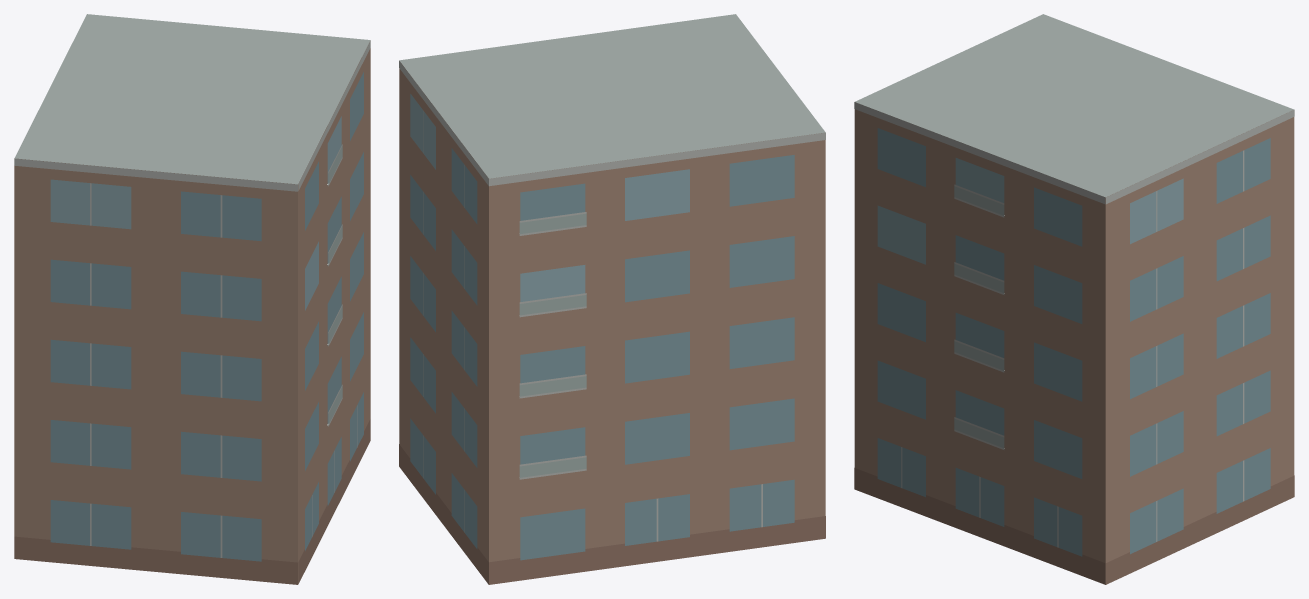
File: survey-upis-32692830.glb
3 renders of one model, left to right at view 1: azimuth 30°, elevation 25°; view 2: azimuth 150°, elevation 25°; view 3: azimuth 270°, elevation 25°, orthographic. The views are drawn at different scales.
Visible parts, largest first — view 1: survey-upis-32692830.tmp; view 2: survey-upis-32692830.tmp; view 3: survey-upis-32692830.tmp.
Boxes of the visible parts, x1=… form: survey-upis-32692830.tmp: x1=14, y1=14, x2=370, y2=584; survey-upis-32692830.tmp: x1=399, y1=14, x2=825, y2=584; survey-upis-32692830.tmp: x1=854, y1=14, x2=1294, y2=584.
Bounding box in the file's own units: 13.46 × 13.25 × 13.64.
